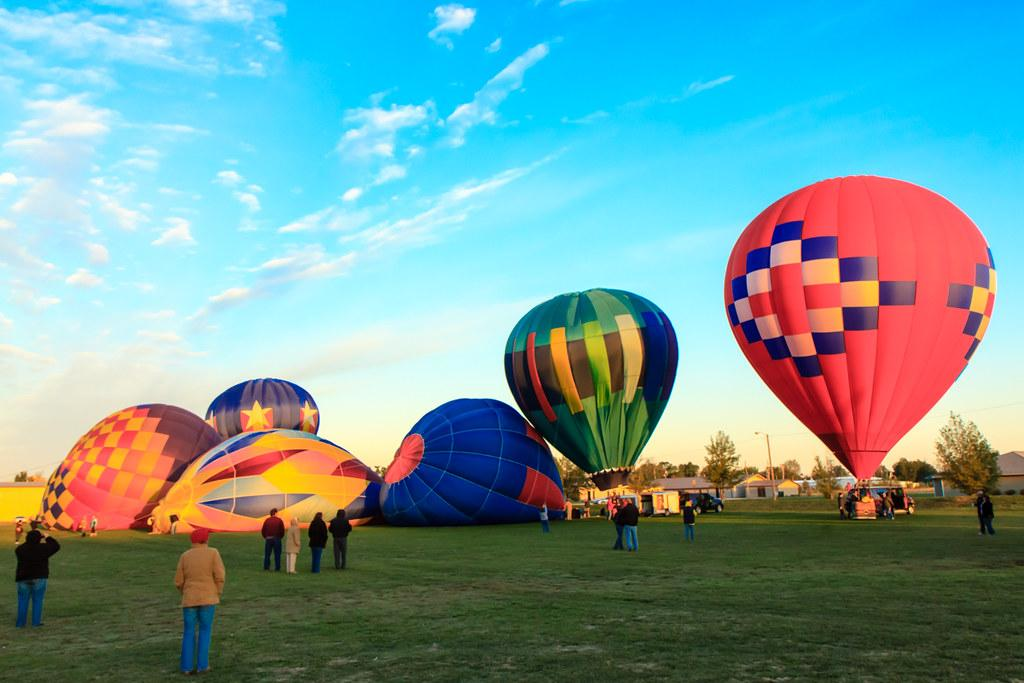balloon: (724, 173, 997, 492), (504, 287, 680, 492), (380, 397, 567, 527), (38, 402, 223, 533), (204, 377, 321, 441)
